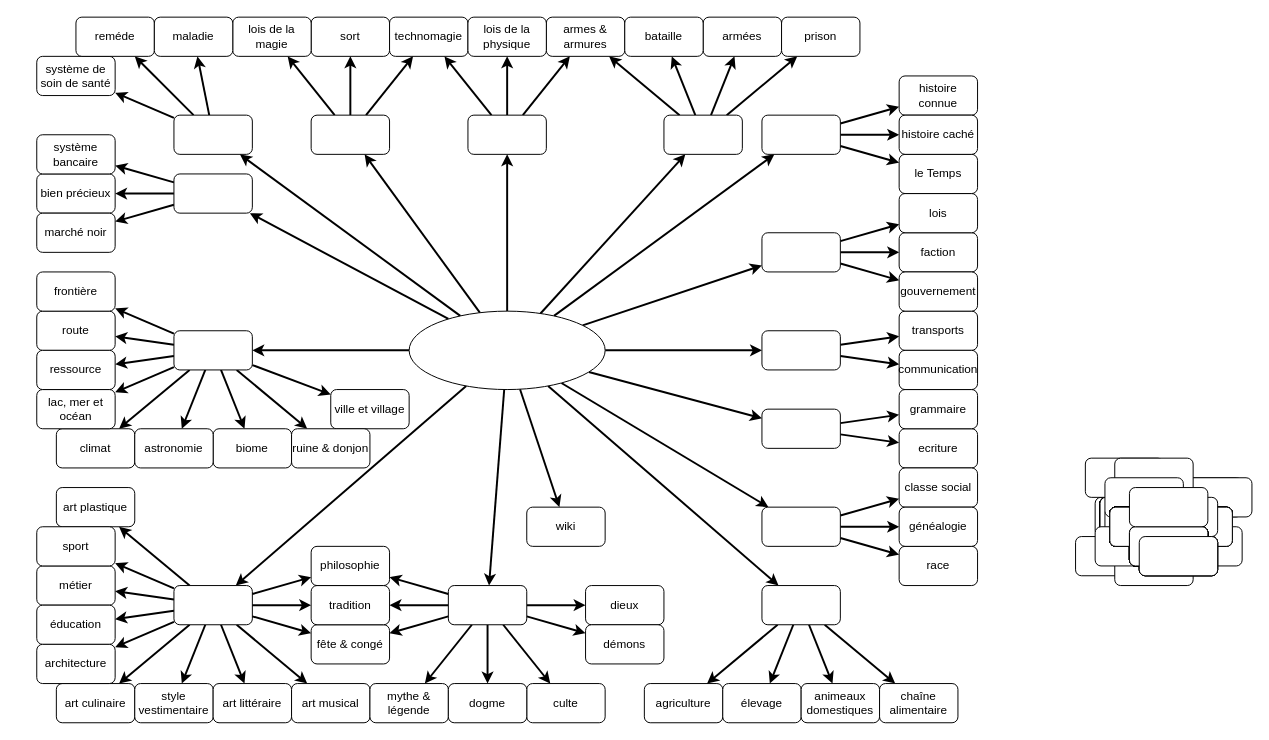
The diagram is 1269 pixels wide and 740 high, and some of its shapes have lost their labels. The box of each missing label's shape, as (x1, y1, x2, y2) in pixels:
culture: (173, 585, 252, 625)
faune & flore: (761, 585, 840, 625)
guerre: (663, 114, 742, 154)
géographie: (173, 330, 252, 370)
histoire: (761, 114, 840, 154)
langue: (761, 408, 840, 448)
logistique: (761, 330, 840, 370)
magie: (310, 114, 390, 154)
médecine: (173, 114, 252, 154)
personnage: (761, 506, 840, 546)
politique: (761, 232, 840, 272)
religion: (447, 585, 527, 625)
technologie: (467, 114, 546, 154)
WorldView: (408, 310, 605, 390)
économie: (173, 173, 252, 213)
